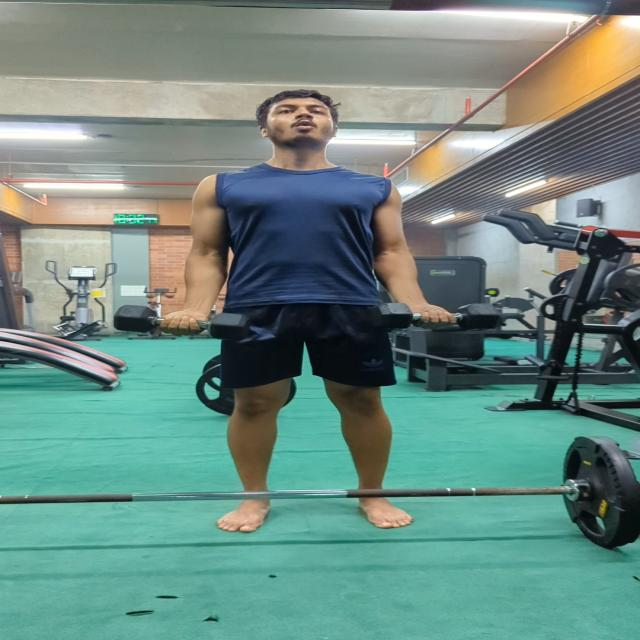Normal_DumbbellBicepCurls: (109, 82, 516, 535)
